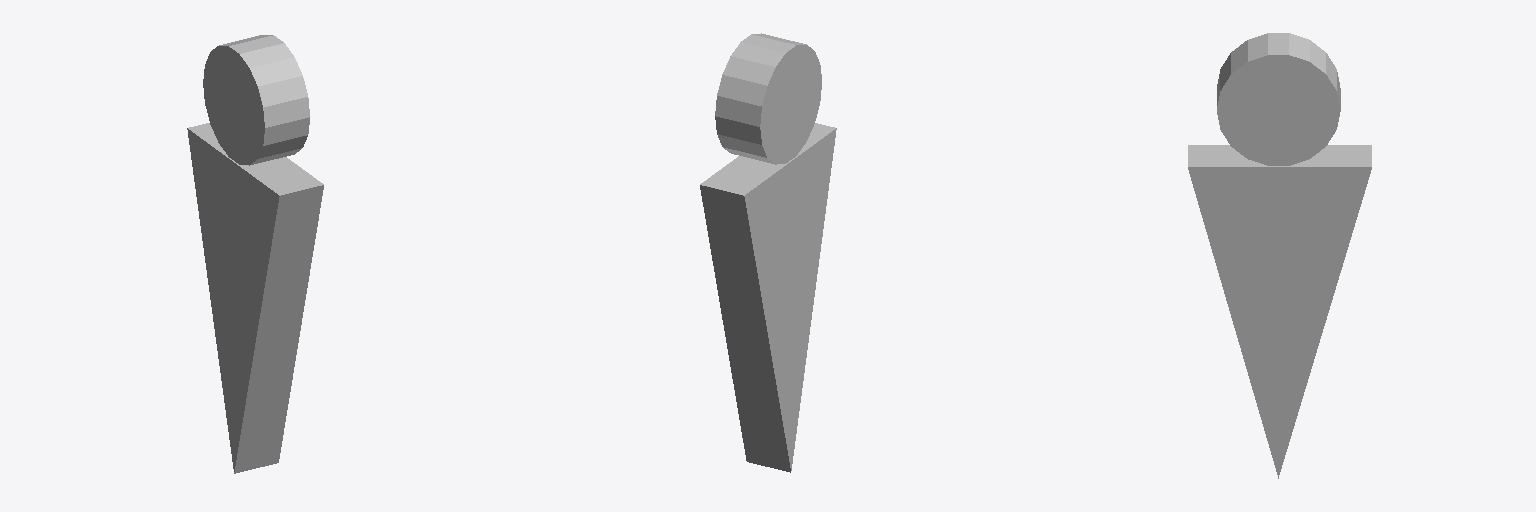
The model's file is Person.obj.
3 views of the same model, side by side, from view 1: azimuth 30°, elevation 25°; view 2: azimuth 150°, elevation 25°; view 3: azimuth 270°, elevation 25° (orthographic).
Visible parts, largest first — view 1: Box001, Cylinder001; view 2: Box001, Cylinder001; view 3: Box001, Cylinder001.
Boxes of the visible parts, x1,y1,x2,y2 form: Box001: [187, 123, 323, 473]; Cylinder001: [203, 35, 309, 165]; Box001: [700, 123, 836, 472]; Cylinder001: [715, 33, 821, 164]; Box001: [1188, 145, 1371, 478]; Cylinder001: [1217, 33, 1340, 165].
Size of the model in its own units: 16.9 by 151 by 59.91.